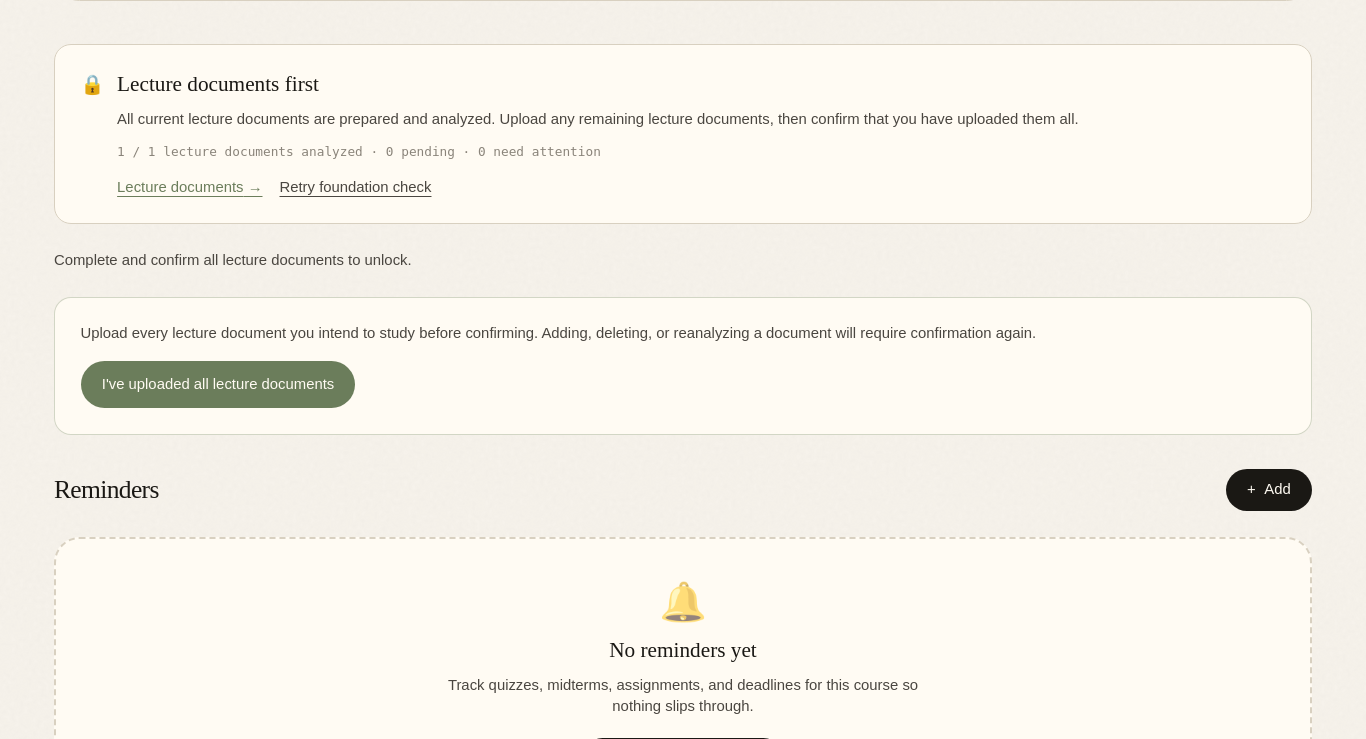
Test: course document foundation › confirms the displayed revision and then unlocks all study actions
The width and height of the screenshot is (1366, 739).
(page scrolled)
Click the button "I've uploaded all lecture documents" at [218, 385], box [80,361,356,408]
(page scrolled)
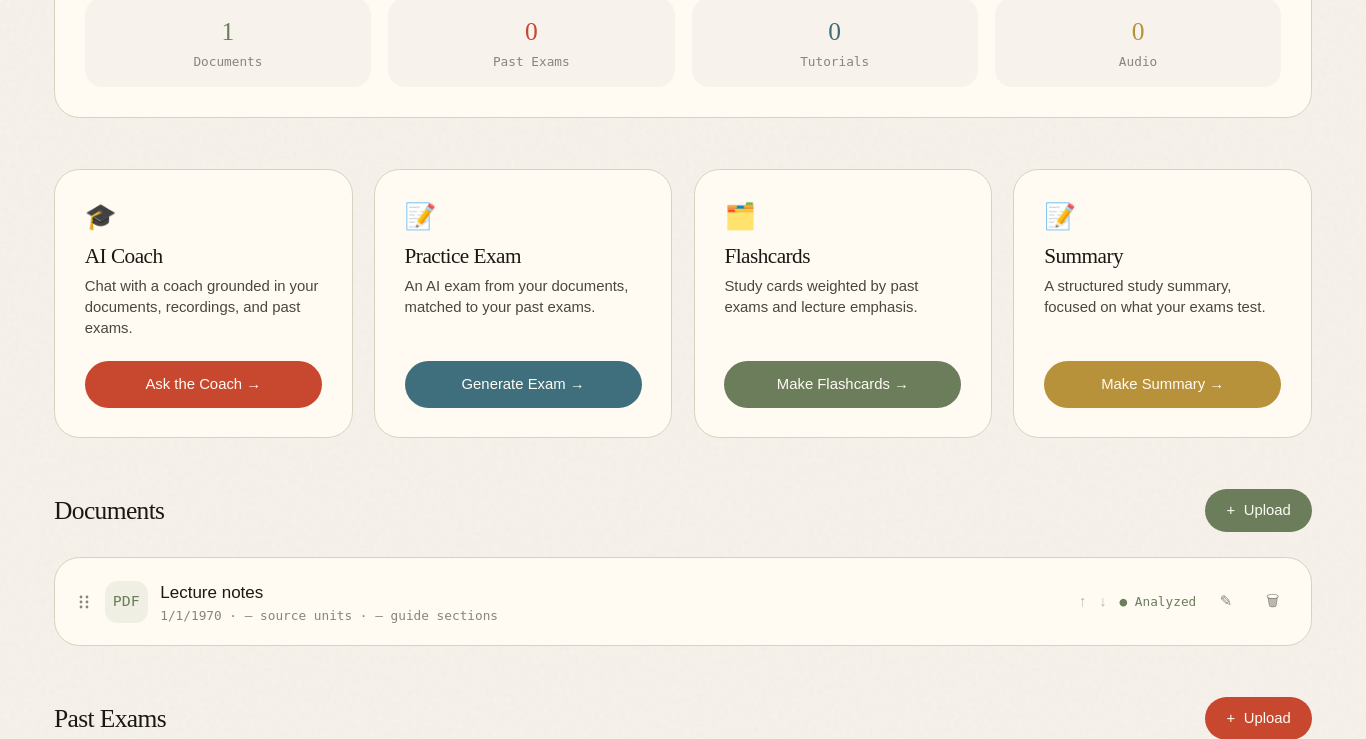
Check: the link "Generate Exam →" is shown, box [405,361,642,408]
Check: the button "I've uploaded all lecture documents" is gone
